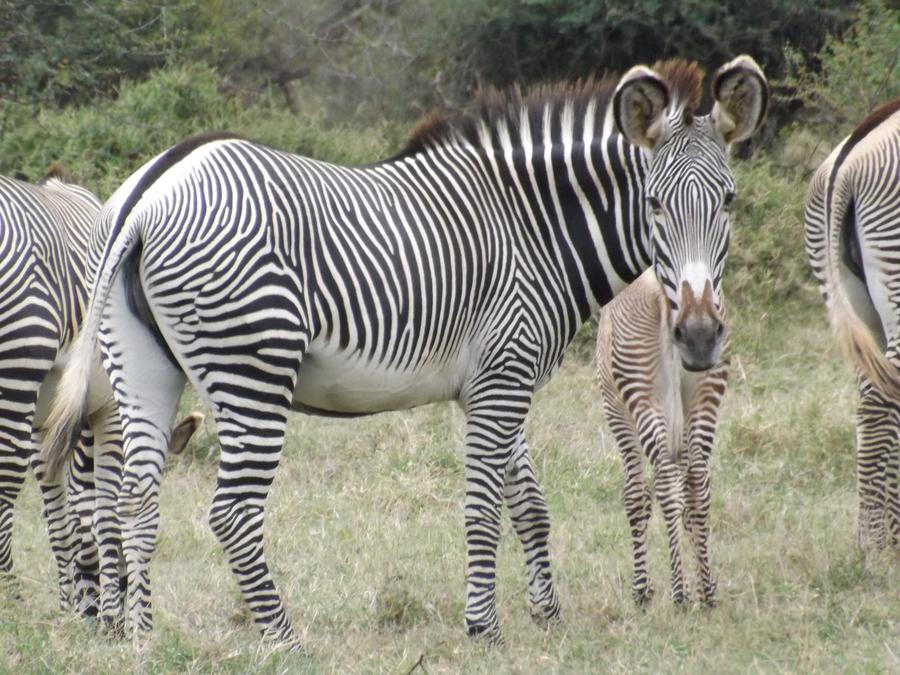zebra_grevys: (133, 137, 547, 386)
